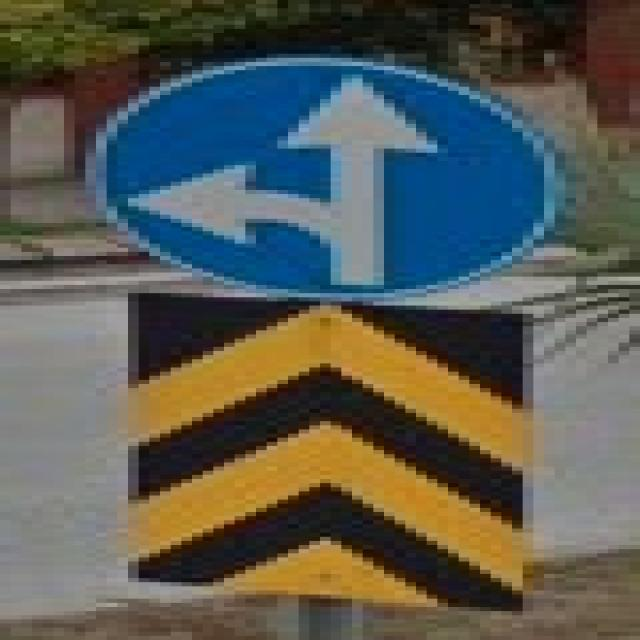Straight or Left: (87, 55, 567, 298)
